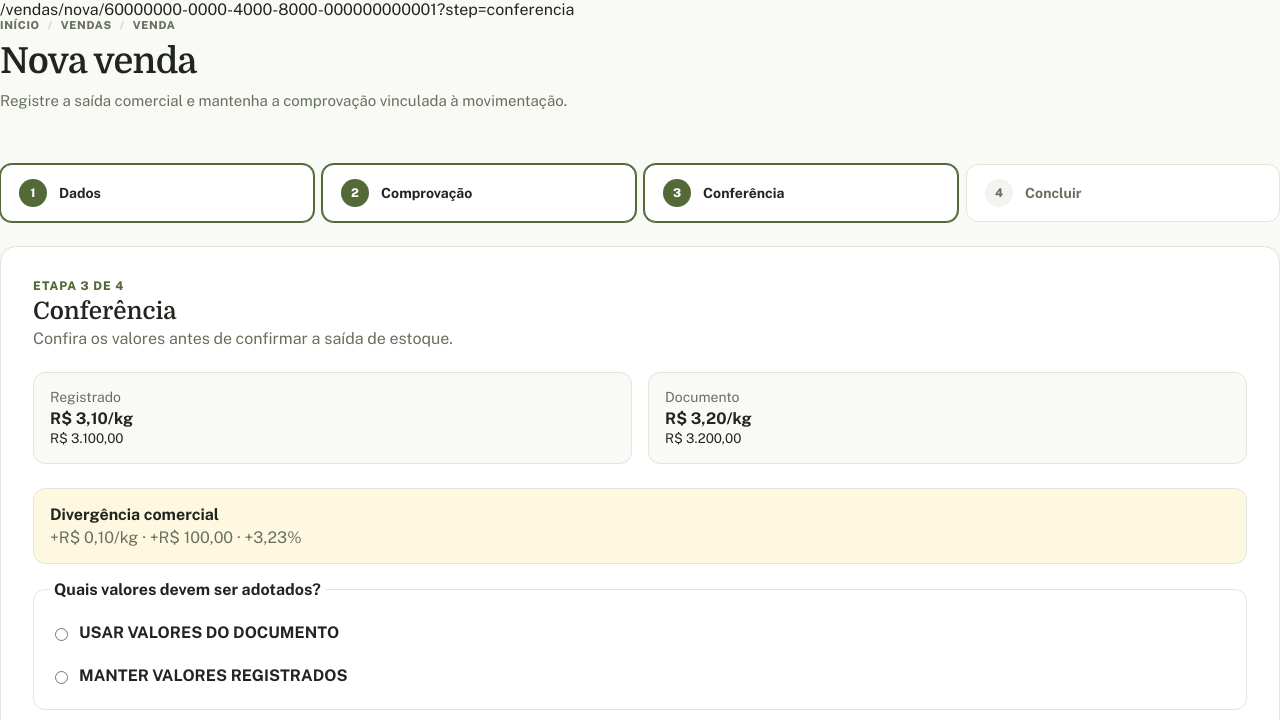
SaleFlowPage › requires nonblank justification for keep_registered
The image size is (1280, 720).
Click the radio button labelled "MANTER VALORES REGISTRADOS" at point(62, 677), box x1=55 y1=671 x2=68 y2=684
(page scrolled)
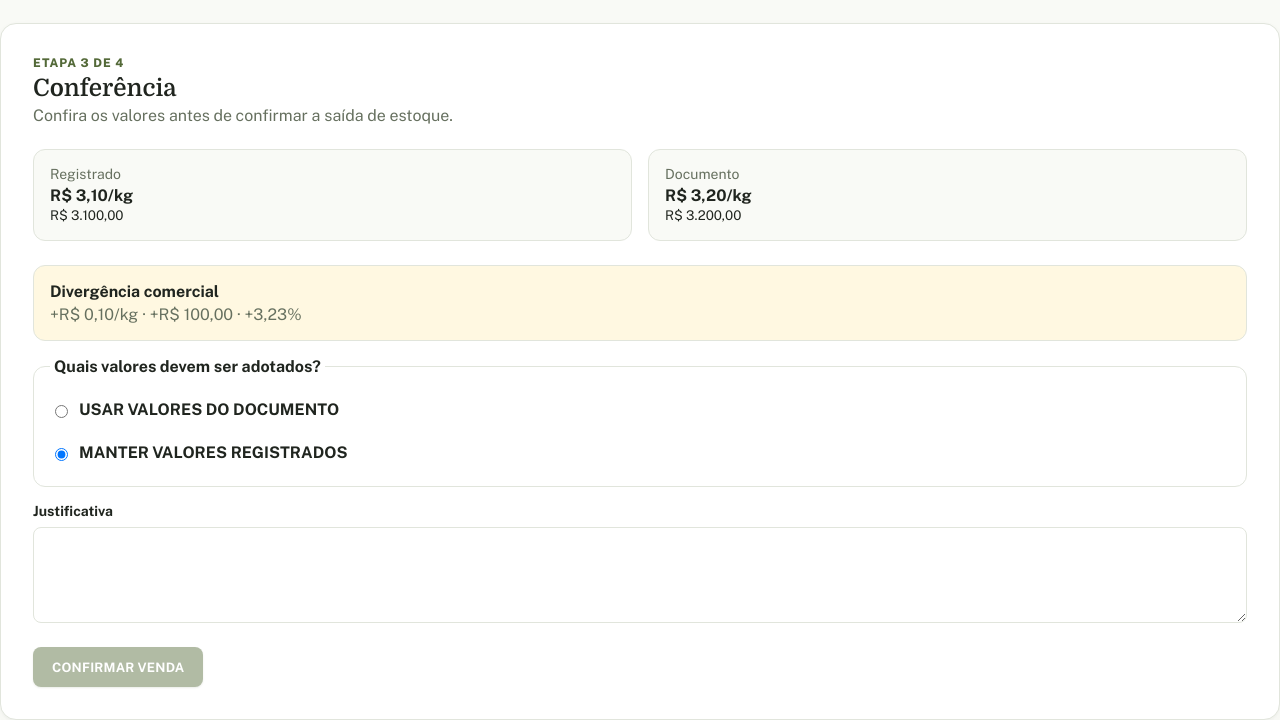
Expected: the button "CONFIRMAR VENDA" is disabled, x1=33 y1=647 x2=204 y2=687
Type "Preço negociado confirmado." into the text box labelled "Justificativa" at point(640, 575), box x1=33 y1=527 x2=1247 y2=623
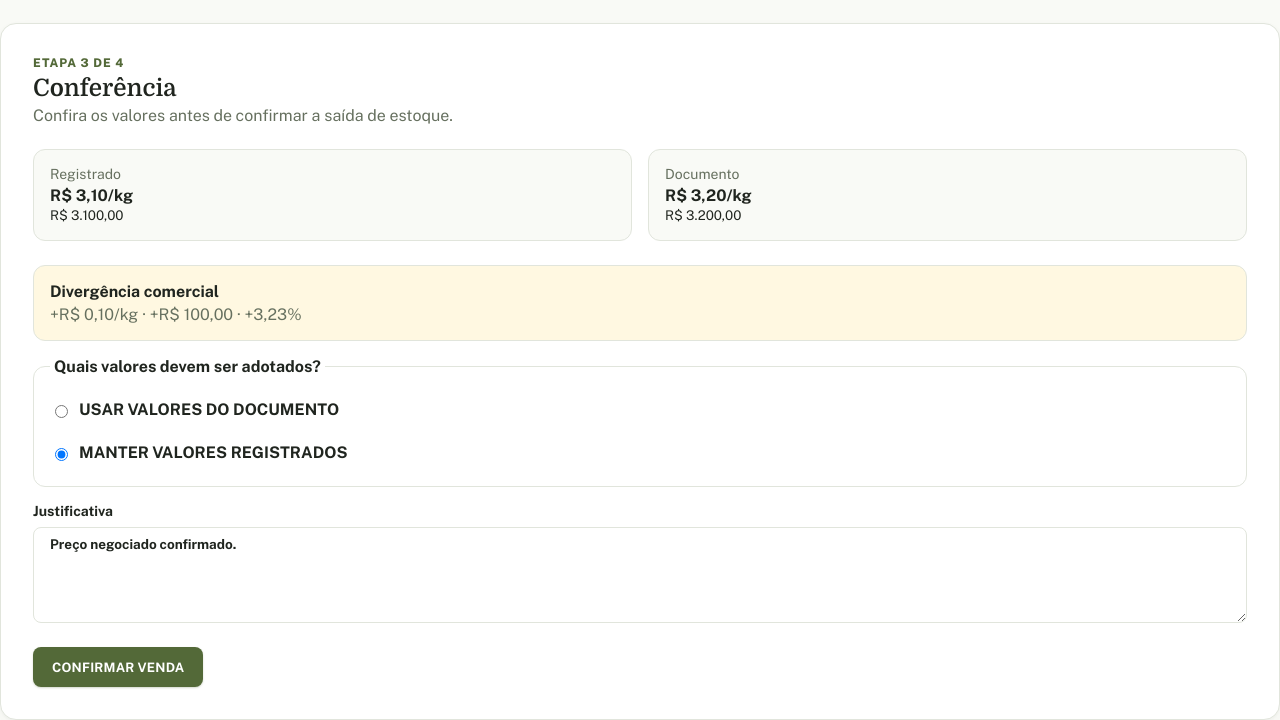
Expected: the button "CONFIRMAR VENDA" is enabled, x1=33 y1=647 x2=204 y2=687
